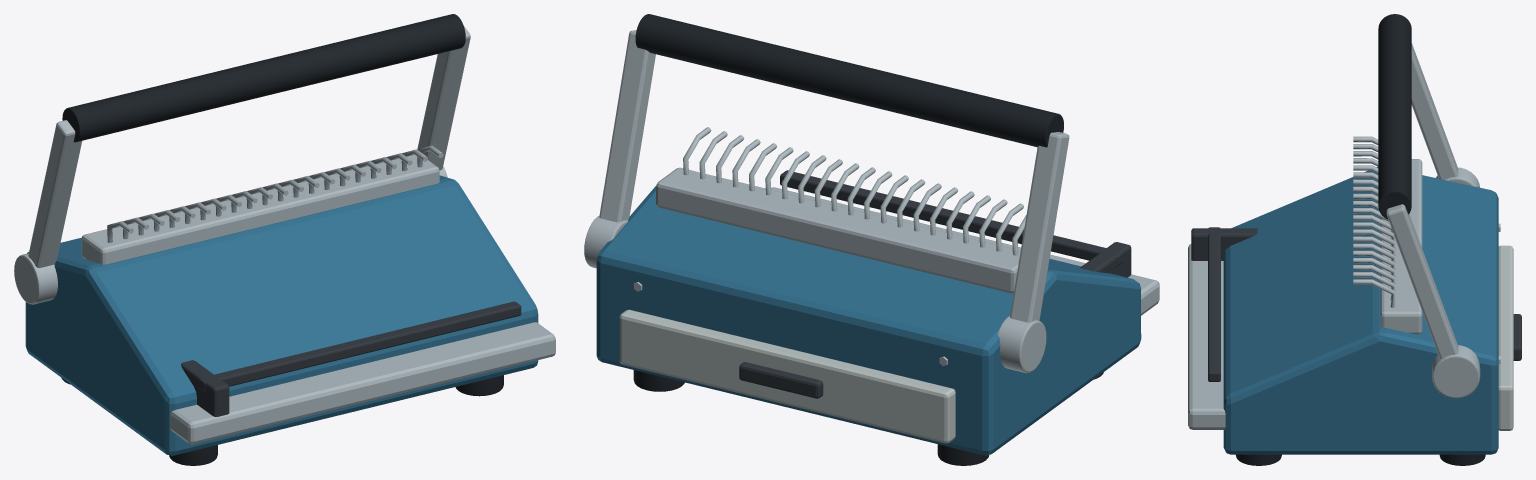
File: city-manual-comb-binding-machine.glb
The picture shows the model from 3 angles, left to right: view 1: azimuth 30°, elevation 25°; view 2: azimuth 150°, elevation 25°; view 3: azimuth 270°, elevation 25°; orthographic projection. The views are drawn at different scales.
Parts seen in each view (by area): view 1: Assembly | Deep blue service paint, Assembly | Brushed exposed steel, Assembly | Rubber feet and hoses, Assembly | Dark mechanism trim; view 2: Assembly | Deep blue service paint, Assembly | Brushed exposed steel, Assembly | Rubber feet and hoses, Assembly | Powder-coated light service metal, Assembly | Dark mechanism trim; view 3: Assembly | Deep blue service paint, Assembly | Brushed exposed steel, Assembly | Rubber feet and hoses, Assembly | Dark mechanism trim, Assembly | Powder-coated light service metal.
Part boxes in pixels (x1,y1,x2,y2): Assembly | Deep blue service paint: (25,175,538,455); Assembly | Brushed exposed steel: (14,25,555,444); Assembly | Rubber feet and hoses: (61,14,503,465); Assembly | Dark mechanism trim: (181,301,521,416); Assembly | Deep blue service paint: (596,186,1141,455); Assembly | Brushed exposed steel: (584,30,1159,373); Assembly | Rubber feet and hoses: (633,14,1103,465); Assembly | Powder-coated light service metal: (619,309,955,443); Assembly | Dark mechanism trim: (739,170,1131,398); Assembly | Deep blue service paint: (1223,167,1498,454); Assembly | Brushed exposed steel: (1188,43,1500,429); Assembly | Rubber feet and hoses: (1236,14,1485,465); Assembly | Dark mechanism trim: (1191,227,1521,381); Assembly | Powder-coated light service metal: (1498,245,1513,430).
Bounding box in the file's own units: 0.483 × 0.344 × 0.3605.
